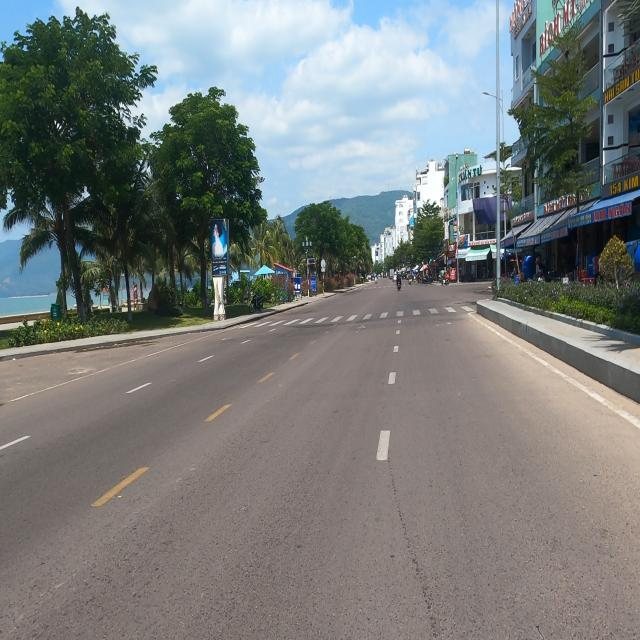walk-crossing: (232, 302, 476, 330)
